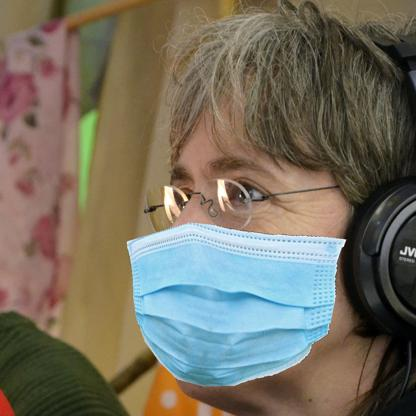mask: (123, 222, 348, 387)
